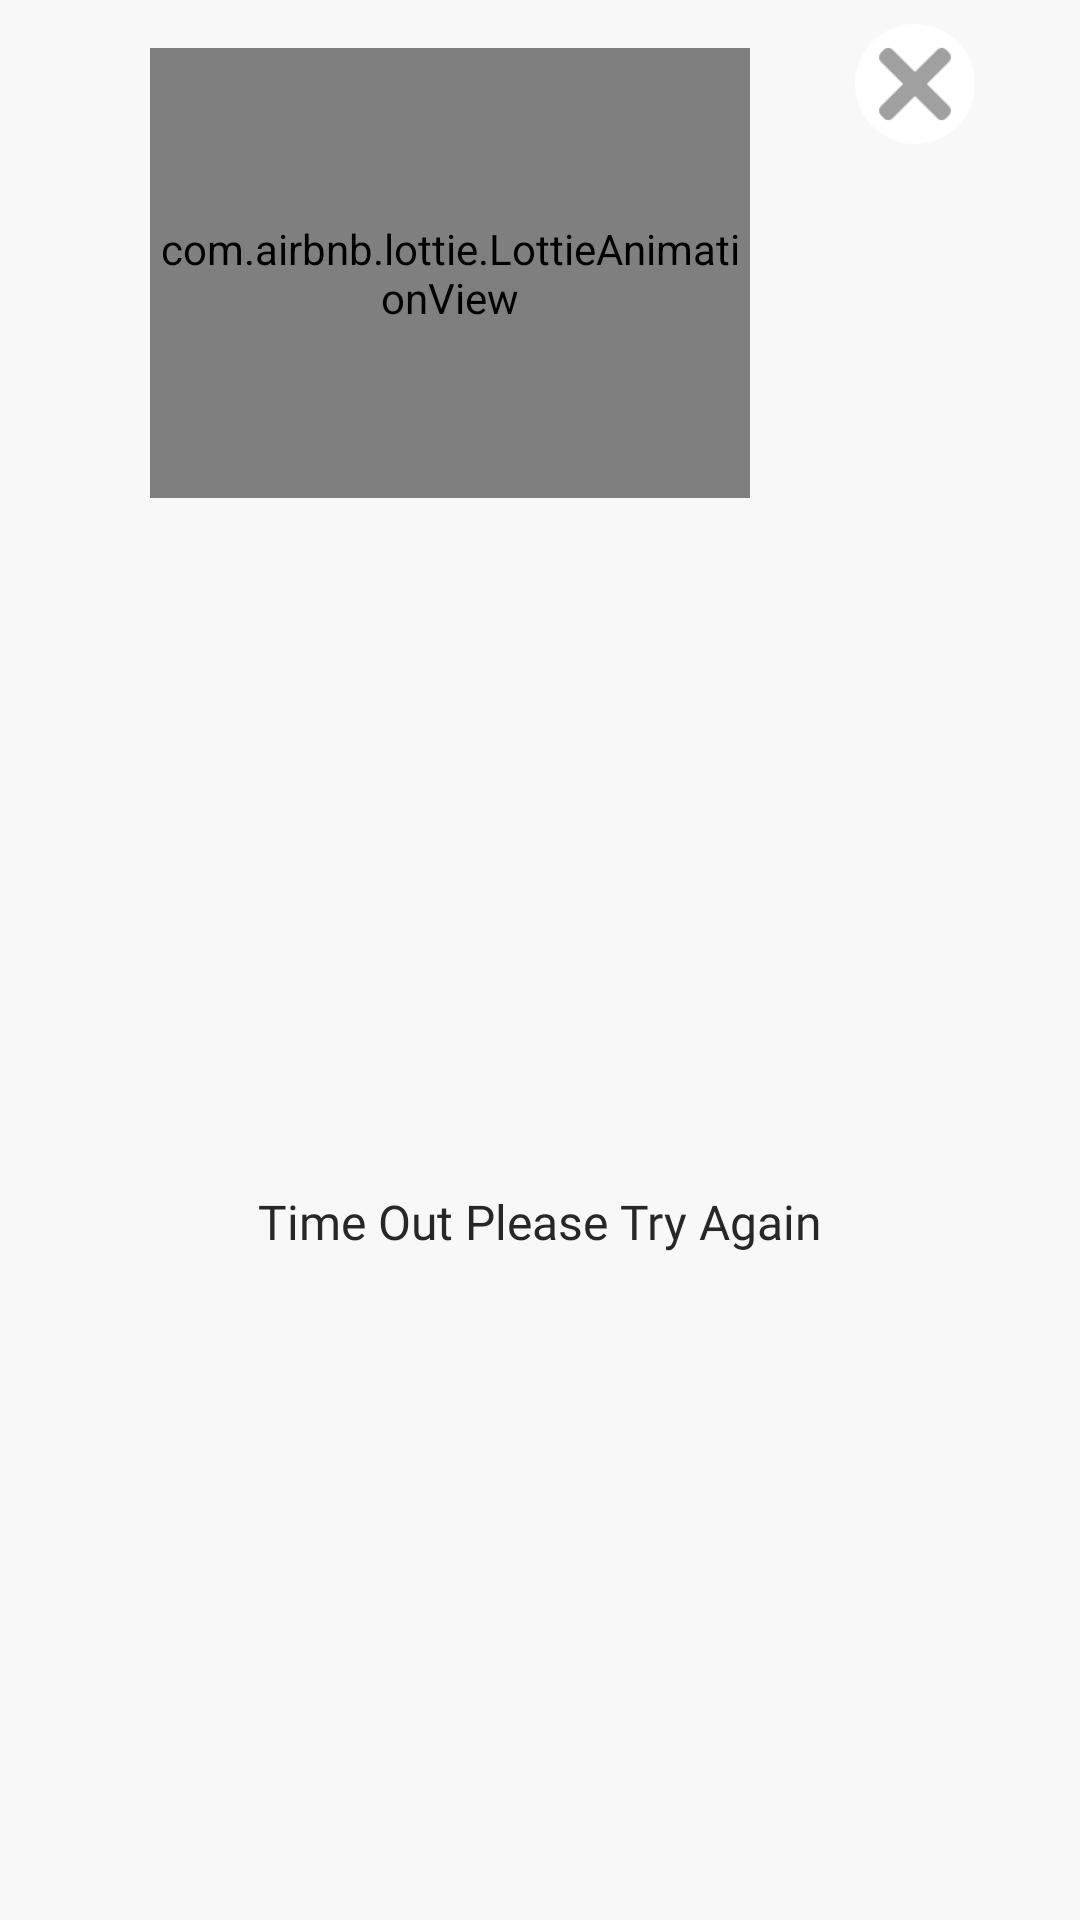

Icon click points for this 1080 × 1920 phone screenshot, format (x=x, y=y):
close: (x=915, y=84)
